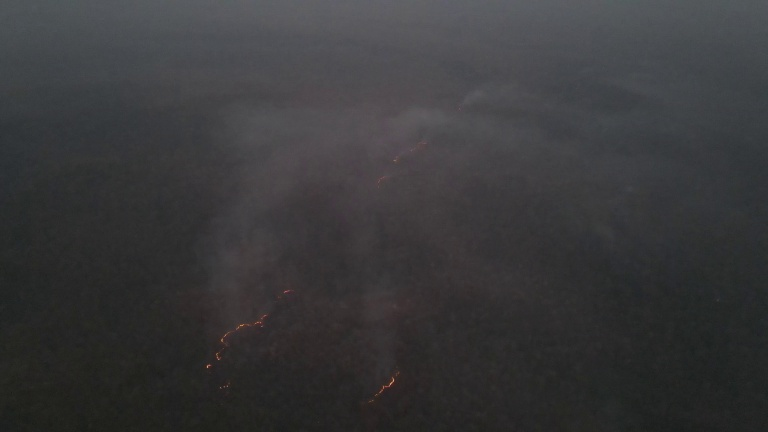fire: (204, 313, 277, 394), (357, 362, 403, 409), (390, 137, 427, 162), (373, 170, 393, 188), (273, 286, 295, 297), (453, 104, 466, 112)
smoke: (206, 93, 430, 297)
